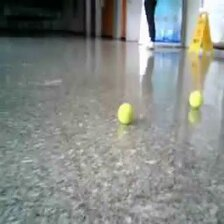tennis: (117, 102, 134, 125), (188, 89, 203, 107)
